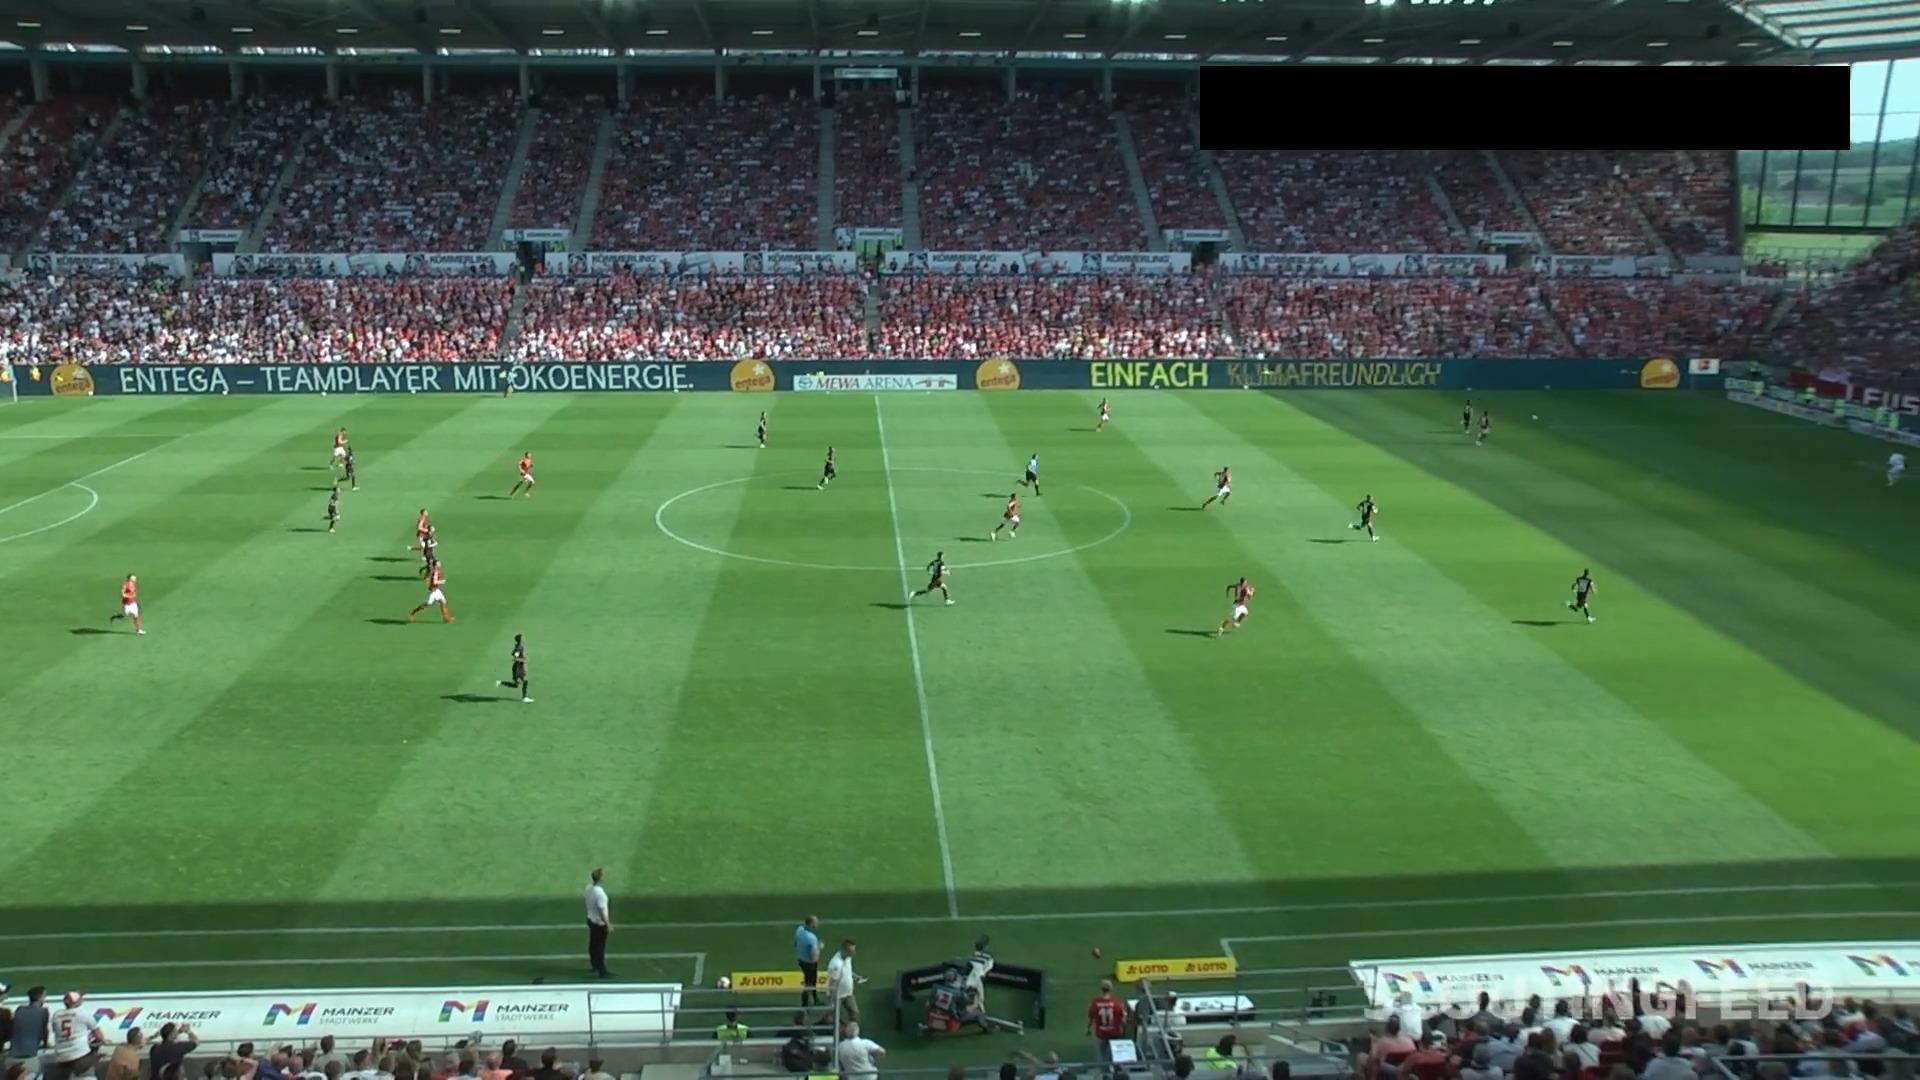ball: (1531, 413, 1539, 421)
